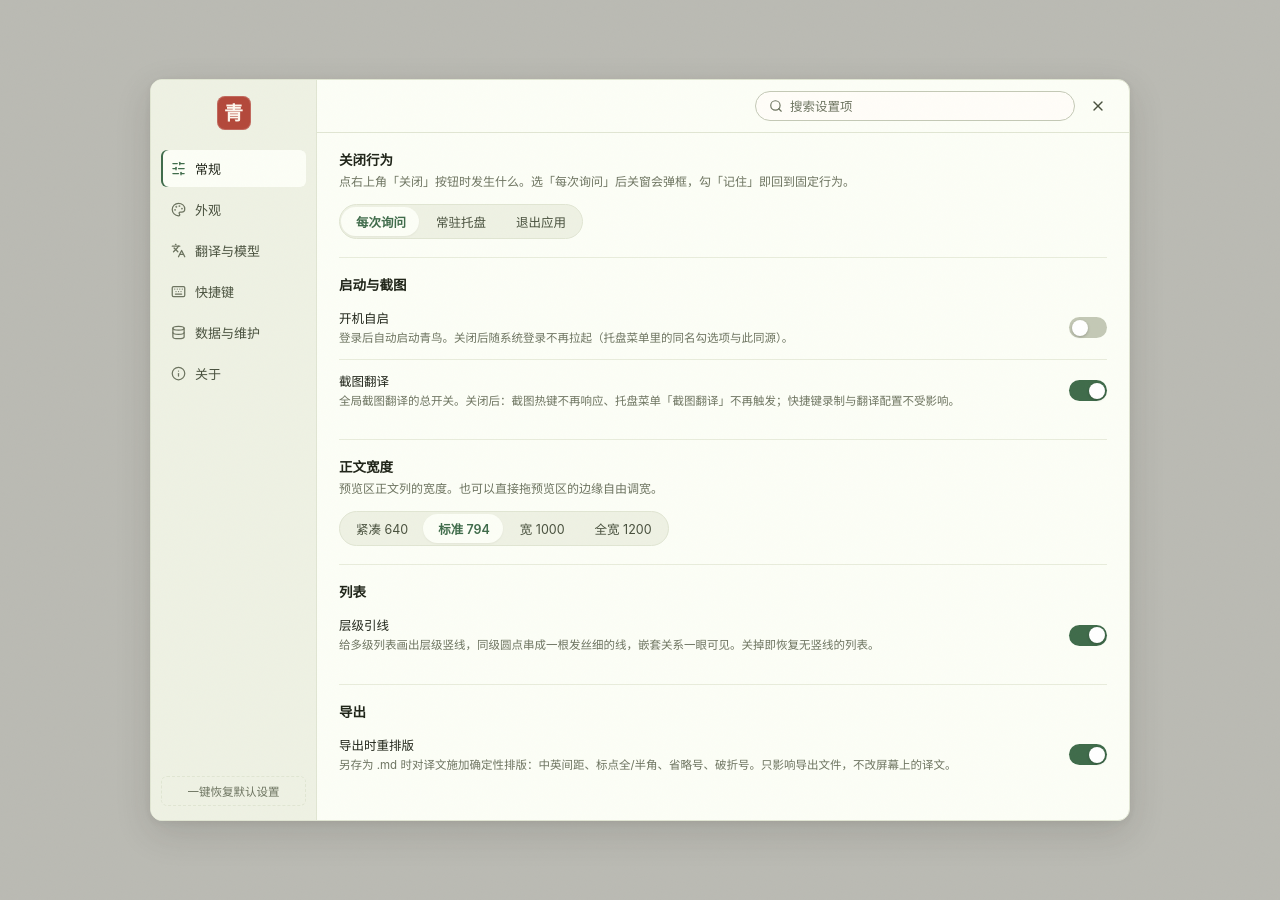
Test: 翻译与模型页 › 非 LLM 组仍走下拉（源多，下拉才是有意义的）
Click the button with class "set-nav-item" showing "翻译与模型": (234, 250) 161,232 -> 306,269
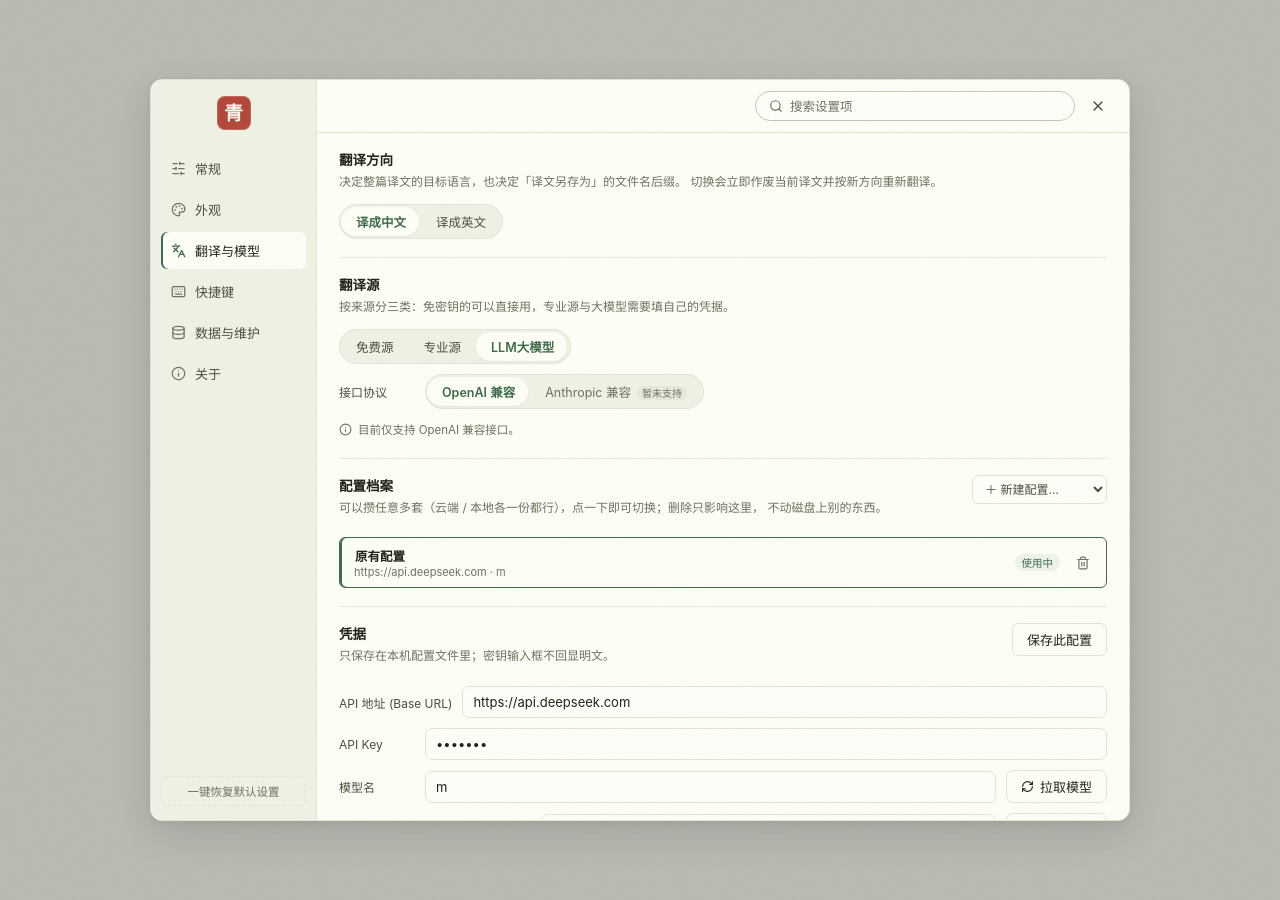
Click the button "免费源": (375, 346) 342,332 -> 408,361
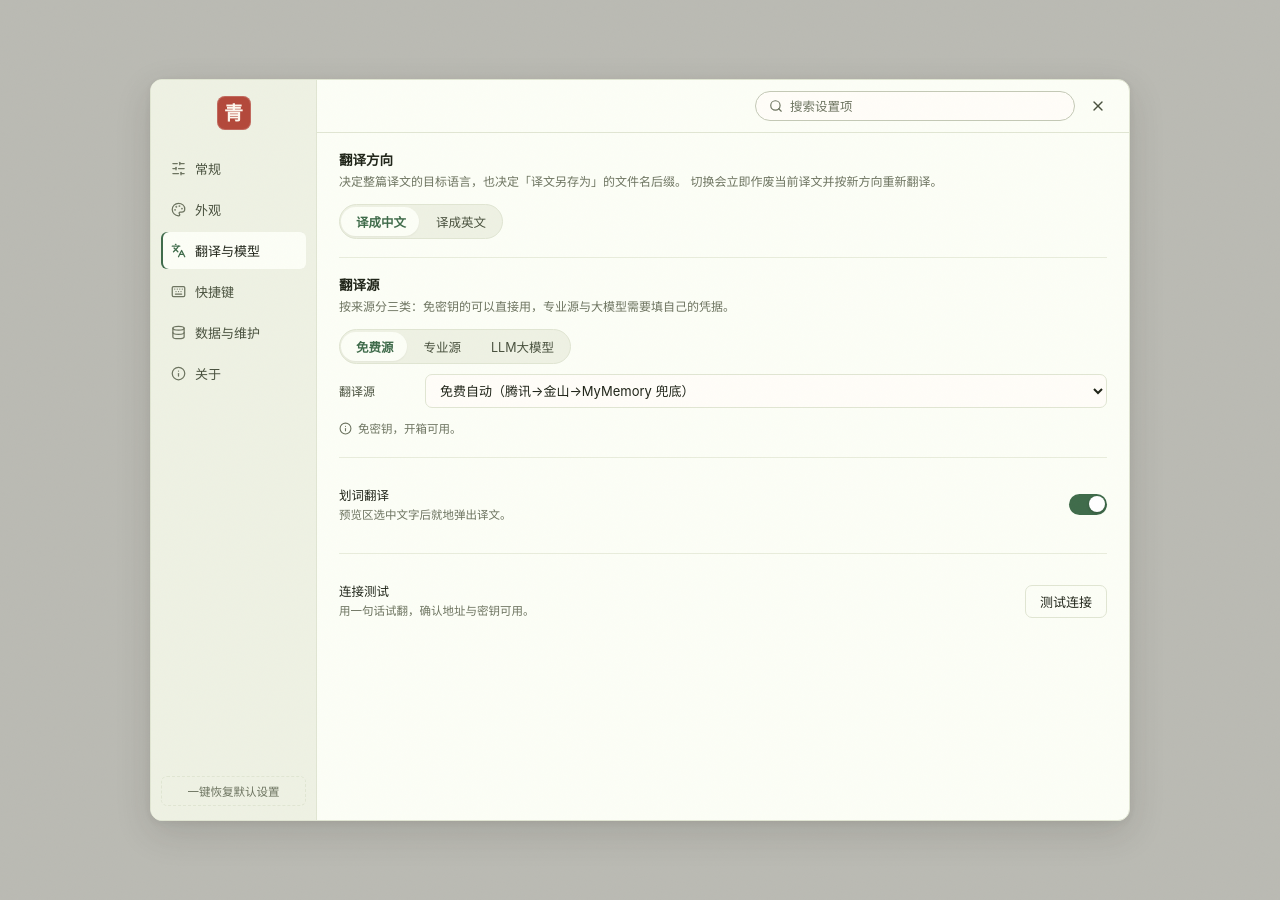
Check: the dropdown with id "set-provider" is shown, box 425,374 -> 1107,408
